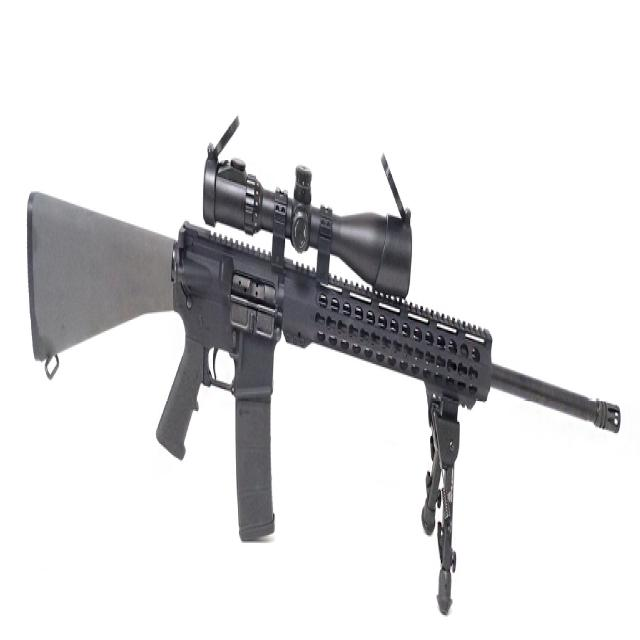Rifle: (27, 119, 623, 544)
